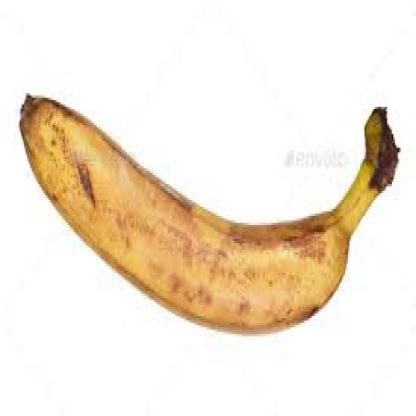Rotten: (17, 57, 407, 343)
